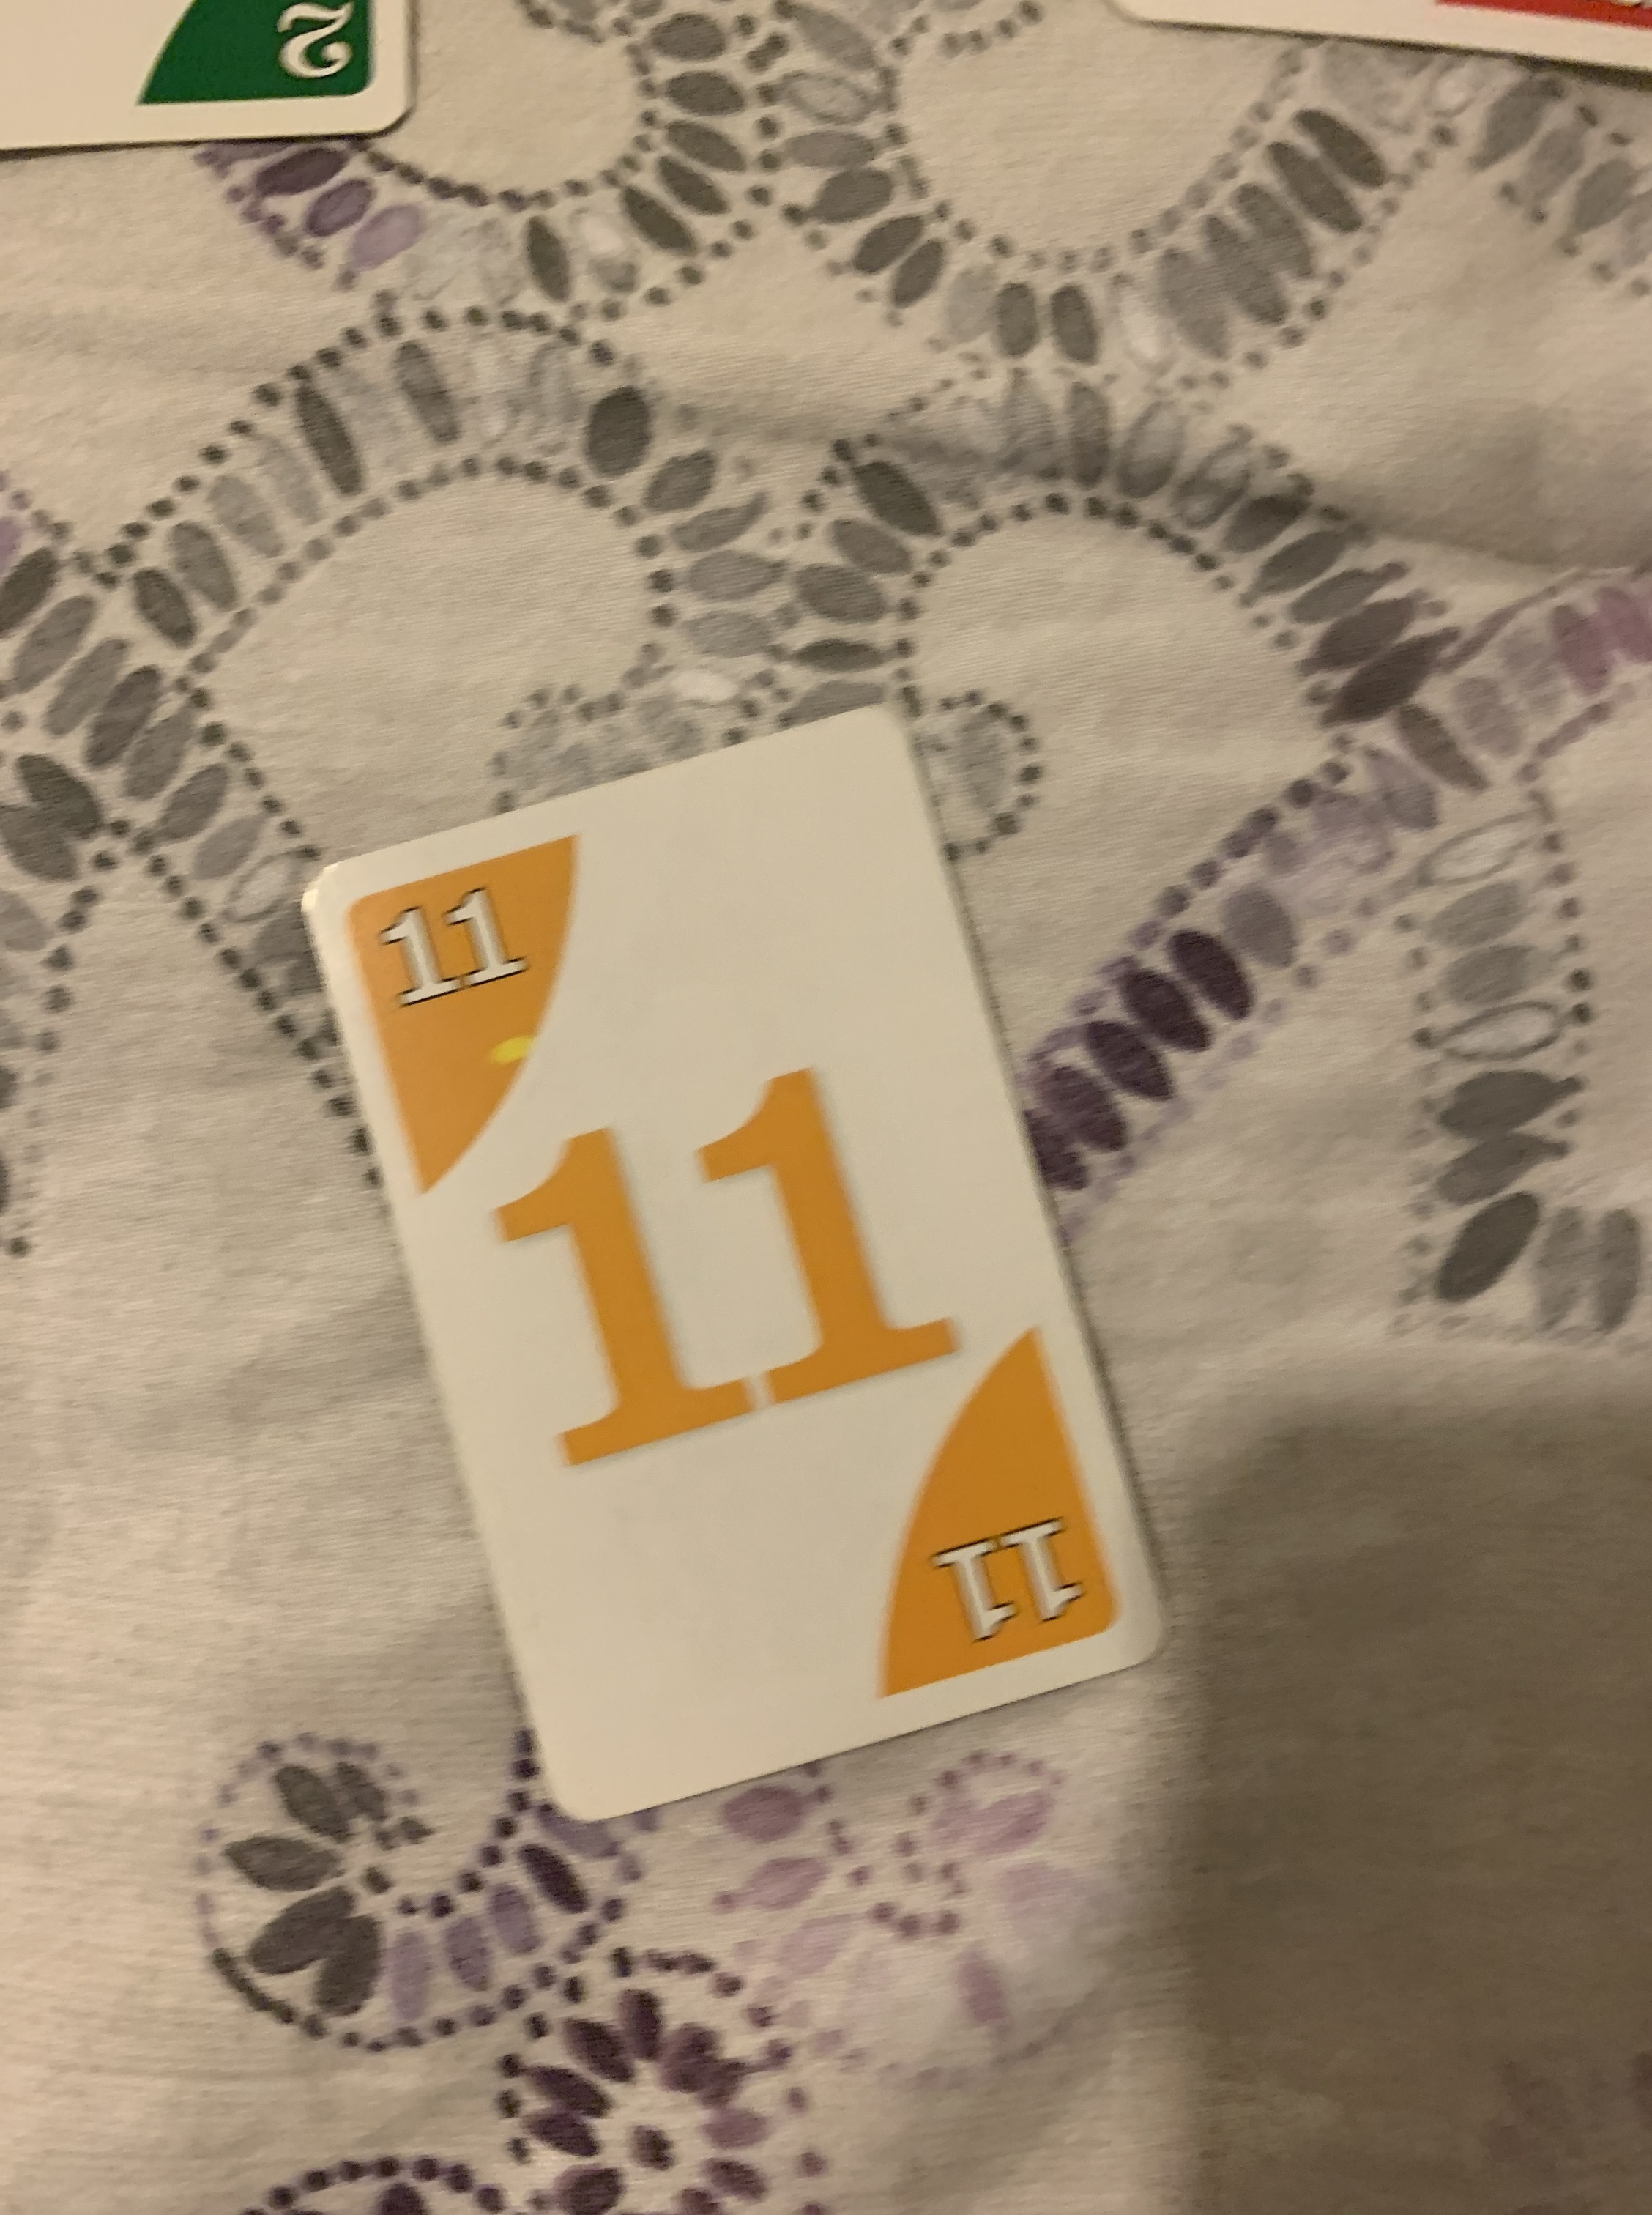eleven: (295, 700, 1168, 1837)
